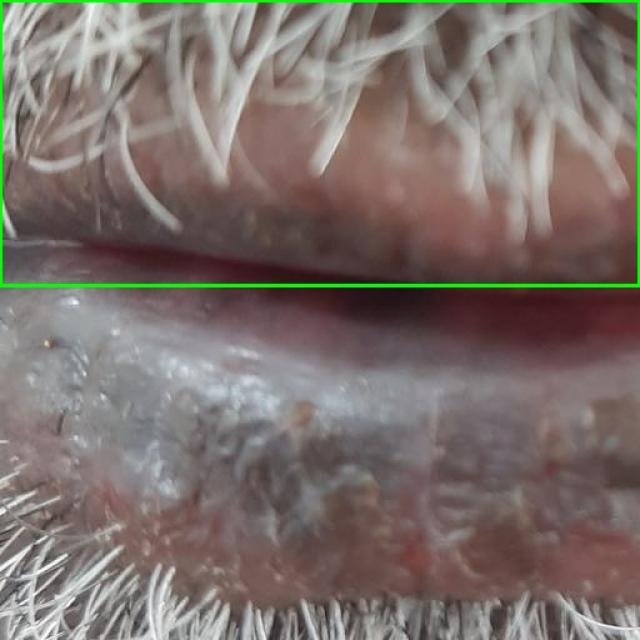Contact Dermatitis: (0, 0, 639, 286)
